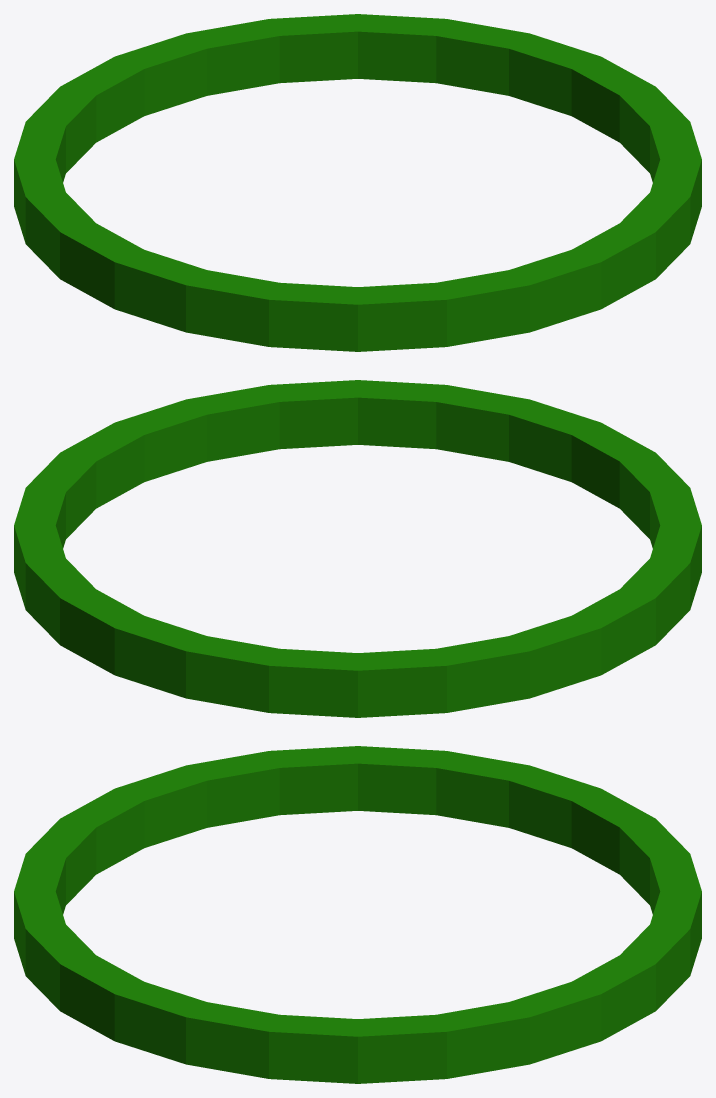
The model's file is sick_robot_day_2014_ring.dae.
3 views of the same model, one above another, from view 1: azimuth 30°, elevation 25°; view 2: azimuth 150°, elevation 25°; view 3: azimuth 270°, elevation 25° (orthographic).
Parts seen in each view (by area): view 1: Cylinder; view 2: Cylinder; view 3: Cylinder.
Boxes of the visible parts, x1,y1,x2,y2 form: Cylinder: [14, 14, 701, 351]; Cylinder: [14, 380, 701, 717]; Cylinder: [14, 746, 701, 1083].
Size of the model in its own units: 0.33 by 0.33 by 0.025.
